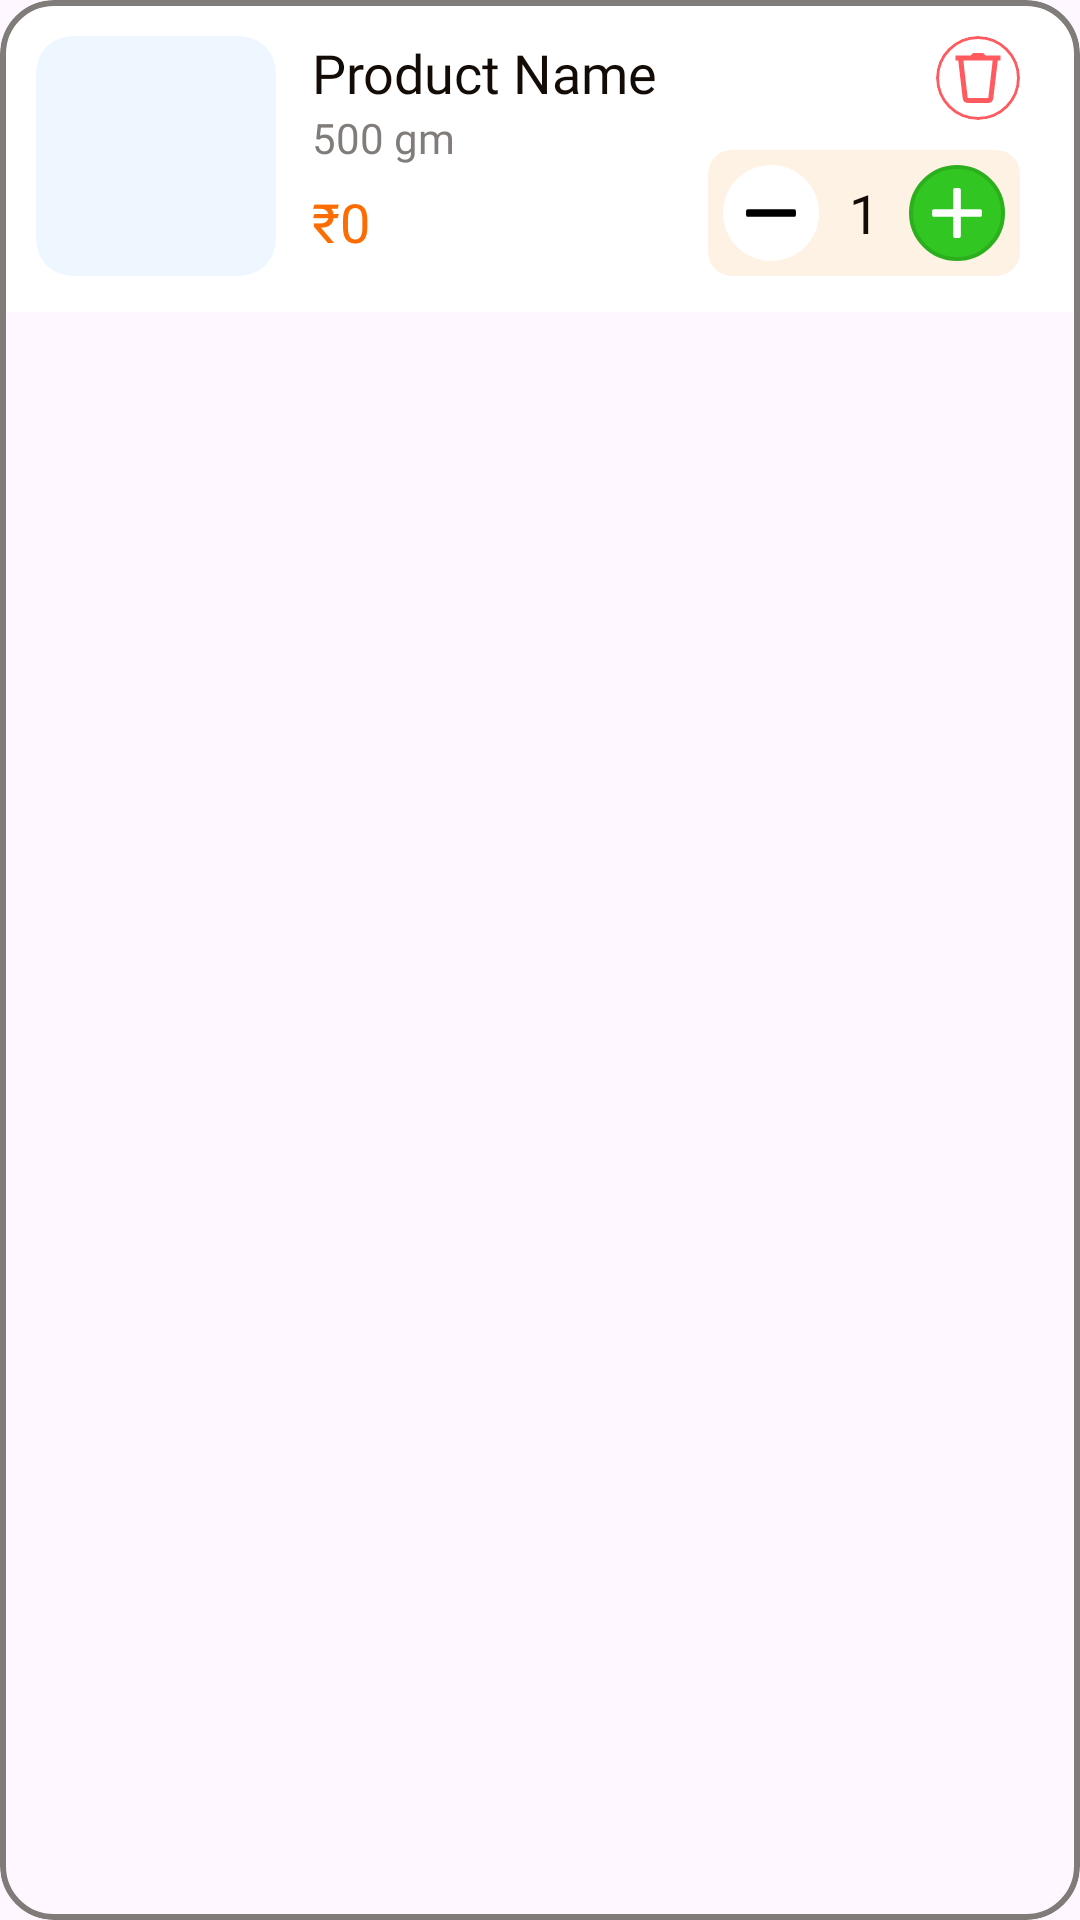

Named icons in this screenshot (1080*1920) and their bounding boxes, {"x1": x1, "y1": y1, "x2": x2, "y2": y2}:
delete: {"x1": 936, "y1": 36, "x2": 1020, "y2": 120}
minus: {"x1": 723, "y1": 165, "x2": 819, "y2": 261}
plus: {"x1": 909, "y1": 165, "x2": 1005, "y2": 261}
